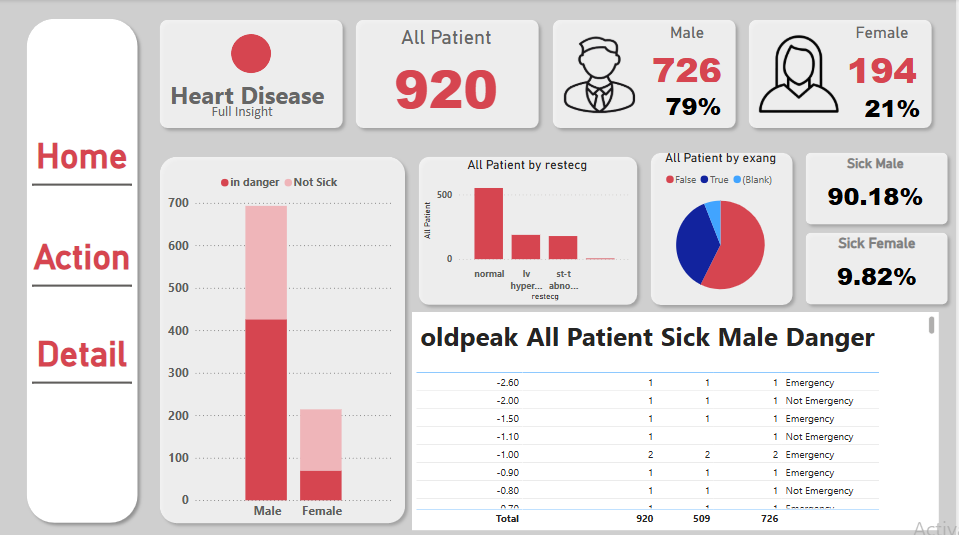

The page's visual inventory and layout, read from the dashboard file:
{"tool":"powerbi","page":{"name":"Details","canvas":[1280,720],"ordinal":2},"visuals":[{"type":"shape","box":[27.7,18,166.2,692.6],"z":0},{"type":"shape","box":[205.7,18.6,262.9,162.9],"z":1000},{"type":"shape","box":[468.6,18.6,262.9,162.9],"z":2000},{"type":"shape","box":[731.4,18.6,262.9,162.9],"z":3000},{"type":"shape","box":[994.3,18.6,262.9,162.9],"z":4000},{"type":"textbox","box":[220,100,234.3,62.9],"z":5000},{"type":"textbox","box":[220,134.3,211.4,62.9],"z":6000},{"type":"shape","box":[310,47.5,53.8,52.5],"z":7000},{"type":"cardVisual","title":"All Patient","fields":{"Data":["measured Data.All Patient"]},"box":[494.3,35.2,209.8,131],"z":8000},{"type":"cardVisual","title":"Male","fields":{"Data":["measured Data.Male"]},"box":[863.2,32.4,115.5,84.5],"z":9000},{"type":"cardVisual","fields":{"Data":["measured Data.% male"]},"box":[871.3,113.6,116.4,62.3],"z":10000},{"type":"cardVisual","title":"Female","fields":{"Data":["measured Data.Female"]},"box":[1123.9,32.4,115.3,98.5],"z":11000},{"type":"cardVisual","fields":{"Data":["measured Data.% female"]},"box":[1137.3,116.4,116.4,62.3],"z":12000},{"type":"image","box":[731.4,34.6,139.9,134.4],"z":13000},{"type":"image","box":[994.6,23.5,152.4,152.4],"z":14000},{"type":"shape","box":[206.4,202.3,346.3,508.4],"z":15000},{"type":"columnChart","fields":{"Category":["heart_disease_uci.sex"],"Y":["measured Data.in danger","measured Data.Not Sick"]},"box":[220.3,224.4,311.7,480.7],"z":16000},{"type":"shape","box":[552.7,202.3,310.3,216.1],"z":17000},{"type":"shape","box":[863,196.7,207.8,221.6],"z":18000},{"type":"shape","box":[1070.8,196.7,207.8,113.6],"z":19000},{"type":"shape","box":[1070.8,303.4,207.8,113.6],"z":20000},{"type":"columnChart","fields":{"Category":["heart_disease_uci.restecg"],"Y":["measured Data.All Patient"]},"box":[563.8,211.9,286.8,196.7],"z":21000},{"type":"pieChart","fields":{"Category":["heart_disease_uci.exang"],"Y":["measured Data.All Patient"]},"box":[870,202.3,191.2,206.4],"z":22000},{"type":"tableEx","fields":{"Values":["heart_disease_uci.oldpeak","measured Data.All Patient","measured Data.Sick","measured Data.Male","heart_disease_uci.Danger"]},"box":[552.7,418.4,705.1,292.3],"z":23000},{"type":"cardVisual","title":"Sick Male","fields":{"Data":["measured Data.%sick male"]},"box":[1077.7,209.2,191.2,97],"z":24000},{"type":"cardVisual","title":"Sick Female","fields":{"Data":["measured Data.%sick female"]},"box":[1081.9,315.8,187,97],"z":25000},{"type":"actionButton","title":"Home","box":[44.2,182,133.8,68.3],"z":25001},{"type":"actionButton","title":"Action","box":[44.2,317.2,133.8,68.3],"z":25002},{"type":"actionButton","title":"Detail","box":[44.2,447,133.8,68.3],"z":25003}]}

Visuals, with their boxes in screenshot pixels (x1, y1, x2, y2), scaled from the page's 1280x720 canvas onto the 959x535 screenshot:
shape: bbox=[21, 13, 145, 528]
shape: bbox=[154, 14, 351, 135]
shape: bbox=[351, 14, 548, 135]
shape: bbox=[548, 14, 745, 135]
shape: bbox=[745, 14, 942, 135]
textbox: bbox=[165, 74, 340, 121]
textbox: bbox=[165, 100, 323, 147]
shape: bbox=[232, 35, 273, 74]
"All Patient" cardVisual: bbox=[370, 26, 528, 123]
"Male" cardVisual: bbox=[647, 24, 733, 87]
cardVisual - measured Data.% male: bbox=[653, 84, 740, 131]
"Female" cardVisual: bbox=[842, 24, 928, 97]
cardVisual - measured Data.% female: bbox=[852, 86, 939, 133]
image: bbox=[548, 26, 653, 126]
image: bbox=[745, 17, 859, 131]
shape: bbox=[155, 150, 414, 528]
columnChart - heart_disease_uci.sex x measured Data.in danger: bbox=[165, 167, 399, 524]
shape: bbox=[414, 150, 647, 311]
shape: bbox=[647, 146, 802, 311]
shape: bbox=[802, 146, 958, 231]
shape: bbox=[802, 225, 958, 310]
columnChart - heart_disease_uci.restecg x measured Data.All Patient: bbox=[422, 157, 637, 304]
pieChart - heart_disease_uci.exang x measured Data.All Patient: bbox=[652, 150, 795, 304]
tableEx - heart_disease_uci.oldpeak x measured Data.All Patient: bbox=[414, 311, 942, 528]
"Sick Male" cardVisual: bbox=[807, 155, 951, 228]
"Sick Female" cardVisual: bbox=[811, 235, 951, 307]
"Home" actionButton: bbox=[33, 135, 133, 186]
"Action" actionButton: bbox=[33, 236, 133, 286]
"Detail" actionButton: bbox=[33, 332, 133, 383]
